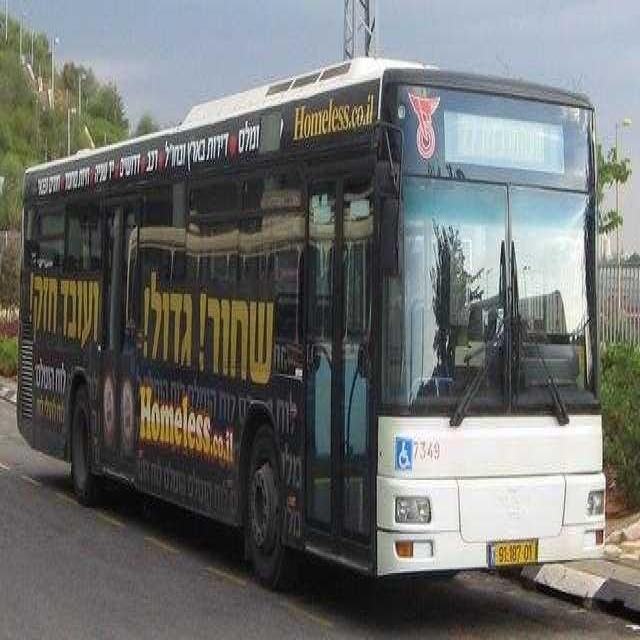Bus: (13, 42, 613, 592)
